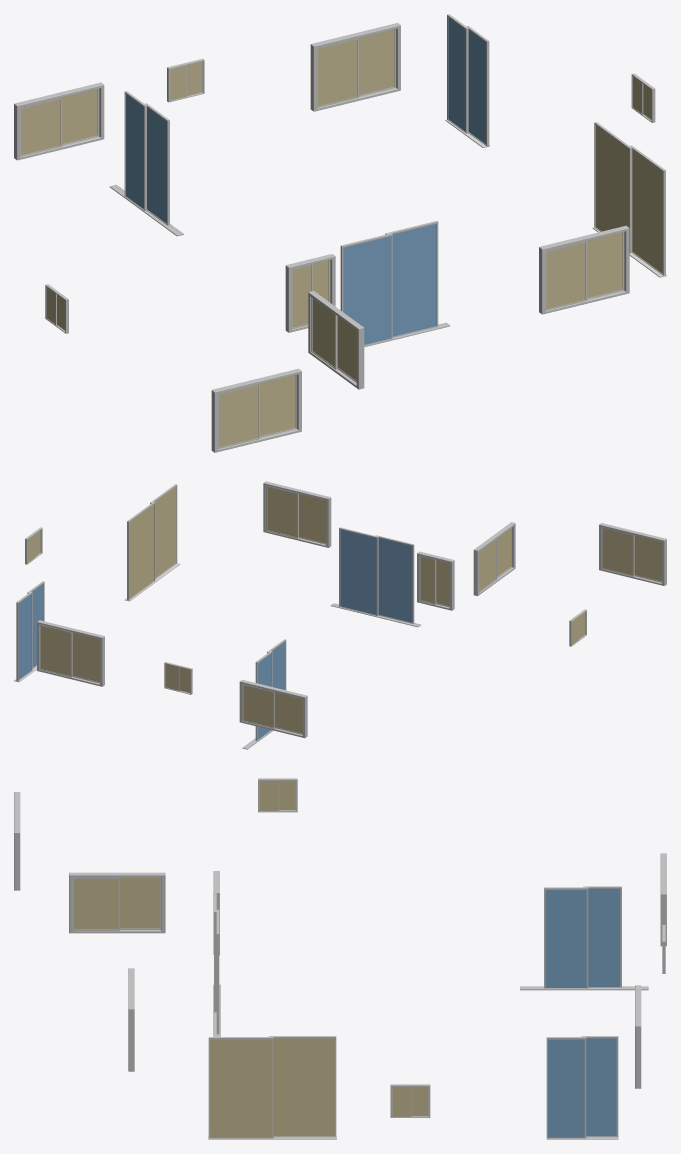
The model's file is Slidewindow.fbx.
The picture shows the model from 3 angles, top to bottom: view 1: azimuth 30°, elevation 25°; view 2: azimuth 150°, elevation 25°; view 3: azimuth 270°, elevation 25°; orthographic projection. The views are drawn at different scales.
Parts seen in each view (by area): view 1: Cube.087, Cube.084, Cube.086, Cube.088, Cube.096, Cube.092, Cube.085, Cube.094, Cube.091, Cube.105, Cube.104, Cube.101 (+9 smaller); view 2: Cube.087, Cube.084, Cube.088, Cube.086, Cube.096, Cube.094, Cube.085, Cube.091, Cube.090, Cube.105, Cube.104, Cube.101 (+9 smaller); view 3: Cube.084, Cube.092, Cube.085, Cube.091, Cube.098, Cube.108, Cube.109, Cube.089, Cube.095, Cube.106, Cube.107, Cube.105 (+3 smaller).
Boxes of the visible parts, x1,y1,x2,y2 form: Cube.087: (343,223,436,344); Cube.084: (596,125,662,273); Cube.086: (318,29,394,106); Cube.088: (546,232,622,309); Cube.096: (219,375,295,447); Cube.092: (126,94,166,223); Cube.085: (448,17,485,144); Cube.094: (21,89,97,155); Cube.091: (312,299,356,380); Cube.105: (539,225,629,314); Cube.104: (310,23,400,111); Cube.101: (211,368,301,452); Cube.087: (340,529,412,622); Cube.084: (129,486,176,598); Cube.088: (267,487,326,543); Cube.086: (41,626,99,682); Cube.096: (603,528,661,581); Cube.094: (243,685,302,733); Cube.085: (18,583,43,679); Cube.091: (479,528,510,591); Cube.090: (421,557,449,606); Cube.105: (263,481,331,547); Cube.104: (37,620,104,686); Cube.101: (599,523,666,585); Cube.084: (210,1038,334,1137); Cube.092: (545,888,620,987); Cube.085: (548,1038,616,1137); Cube.091: (74,878,160,929); Cube.098: (69,872,165,933); Cube.108: (208,1036,336,1138); Cube.109: (546,1036,618,1138); Cube.089: (392,1086,428,1116); Cube.095: (260,780,295,810); Cube.106: (544,886,621,988); Cube.107: (214,888,219,1034); Cube.105: (128,968,134,1071).
Bounding box in the file's own units: 2187 × 336 × 1964.
